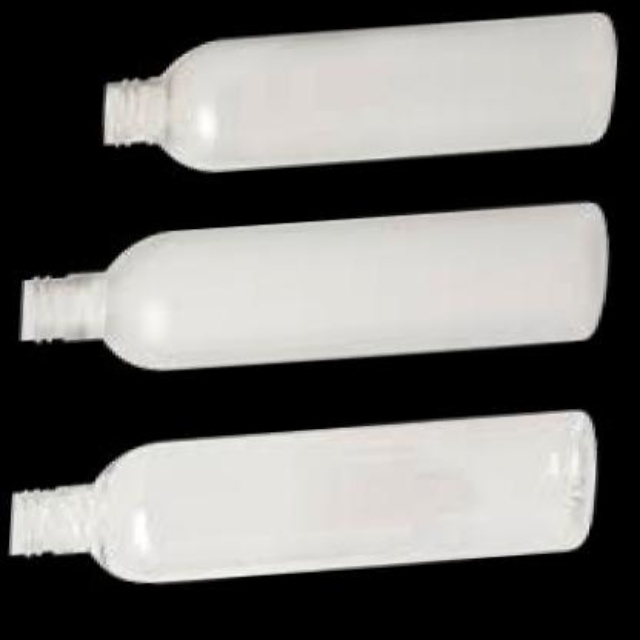trash: (11, 411, 594, 582), (22, 203, 606, 368), (105, 12, 615, 171)
